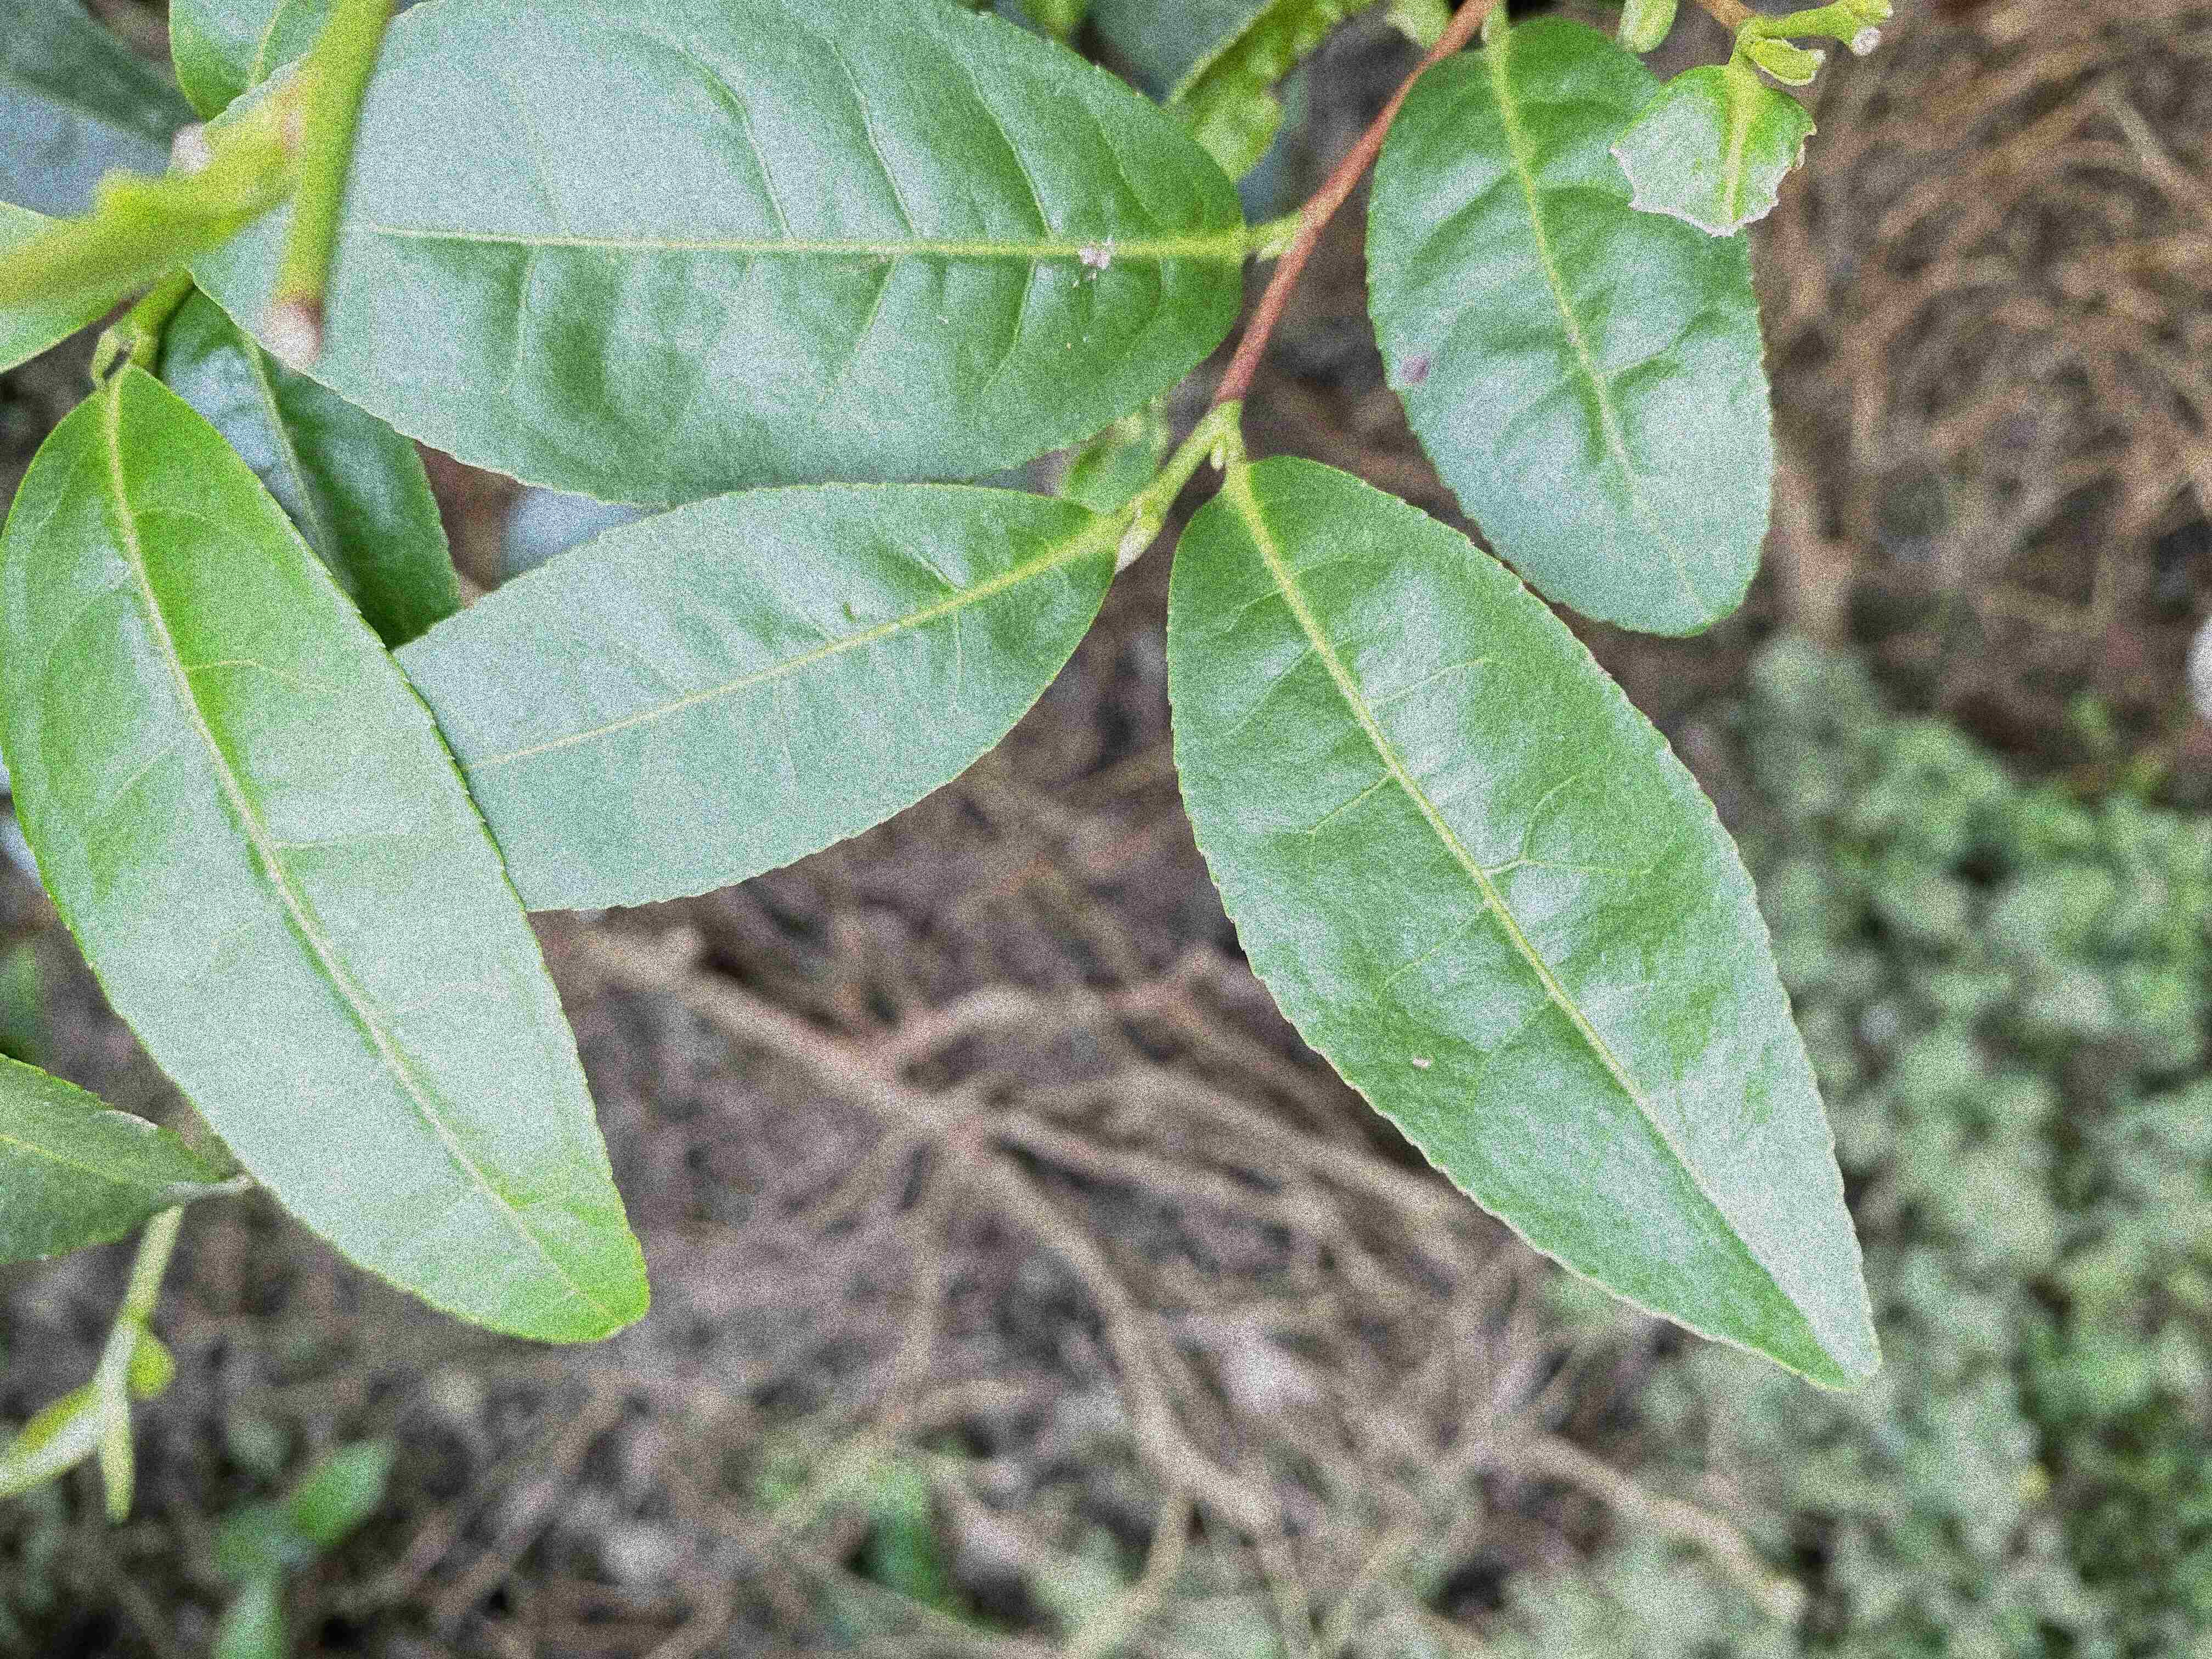chihuo_high: (1608, 64, 1820, 240)
healthy: (1163, 455, 1886, 1396), (5, 369, 653, 1342), (394, 479, 1120, 911)
tanju_low: (167, 0, 1251, 509), (1360, 12, 1778, 640)
